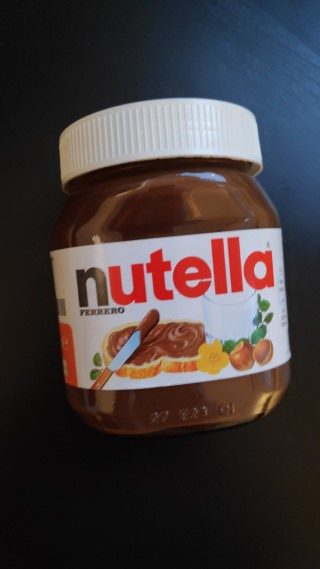nutella: (44, 94, 296, 443)
